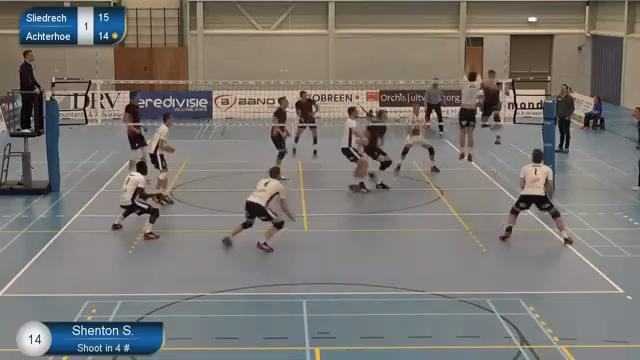Attack: (482, 66, 504, 147)
Block: (457, 60, 481, 169)
Player: (500, 149, 572, 244), (222, 166, 294, 252), (111, 161, 159, 239), (394, 103, 439, 174), (341, 106, 369, 192), (148, 113, 174, 203), (364, 110, 391, 189), (292, 91, 318, 156), (123, 103, 146, 171), (270, 97, 289, 165)
